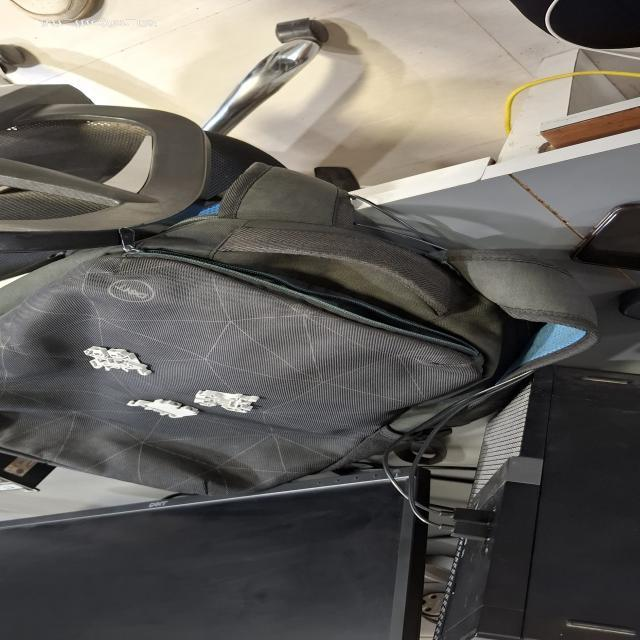Inverted: (124, 398, 203, 419)
Reject: (81, 345, 154, 377), (192, 389, 266, 414)
